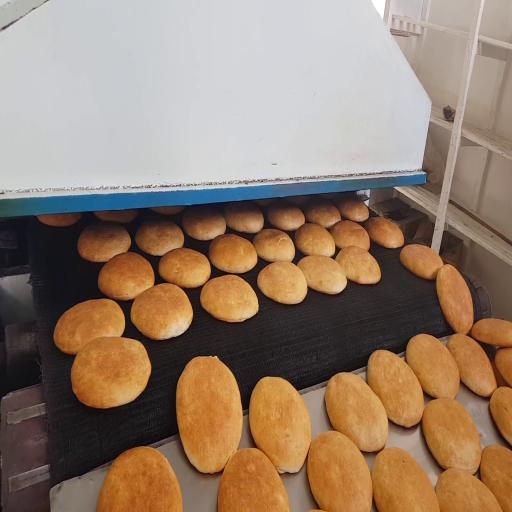bread: (176, 357, 242, 473), (249, 377, 311, 473), (71, 337, 151, 408), (96, 447, 182, 511), (307, 431, 372, 511), (325, 373, 388, 451), (218, 448, 290, 511), (422, 399, 481, 474), (367, 350, 423, 427), (372, 448, 439, 511), (54, 299, 125, 354), (131, 284, 193, 339), (406, 334, 459, 398), (447, 334, 497, 397), (436, 468, 501, 511), (200, 275, 258, 322), (98, 252, 154, 300), (436, 265, 473, 334), (78, 223, 131, 262), (258, 262, 307, 304), (159, 248, 210, 288), (480, 446, 511, 511), (209, 234, 257, 274), (298, 256, 346, 294), (135, 220, 184, 255), (336, 246, 381, 284), (400, 244, 443, 280), (183, 207, 226, 240), (253, 229, 295, 262), (295, 223, 335, 256), (490, 387, 511, 445), (224, 202, 263, 233), (330, 220, 370, 250), (366, 217, 404, 248), (471, 319, 511, 347), (268, 204, 305, 231), (305, 202, 341, 228), (338, 198, 369, 221), (94, 209, 138, 224), (38, 213, 82, 227), (495, 348, 511, 386), (492, 361, 507, 387), (151, 206, 184, 215), (284, 195, 310, 205), (254, 198, 275, 207)
